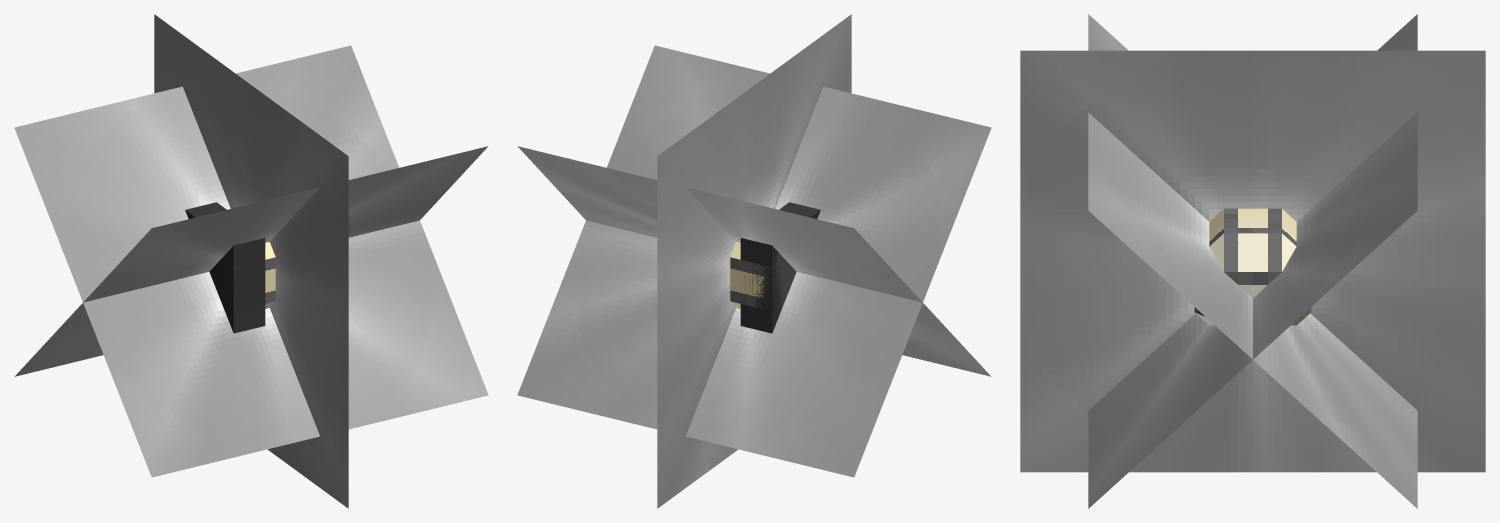
The model's file is RobustLampSuspended.obj.
3 views of the same model, side by side, from view 1: azimuth 30°, elevation 25°; view 2: azimuth 150°, elevation 25°; view 3: azimuth 270°, elevation 25° (orthographic). The views are drawn at different scales.
Visible parts, largest first — view 1: lightAlphaNoDepth, base, socket; view 2: lightAlphaNoDepth, base, socket; view 3: lightAlphaNoDepth, socket.
Part boxes in pixels (<box>): lightAlphaNoDepth: <box>14,14,488,508</box>; base: <box>185,202,265,333</box>; socket: <box>232,242,275,308</box>; lightAlphaNoDepth: <box>517,14,991,508</box>; base: <box>740,202,820,333</box>; socket: <box>730,242,796,313</box>; lightAlphaNoDepth: <box>1020,14,1485,508</box>; socket: <box>1194,208,1311,325</box>.
Bounding box in the file's own units: 1 × 1 × 1.
Materials: 2 (2 with a texture image).
